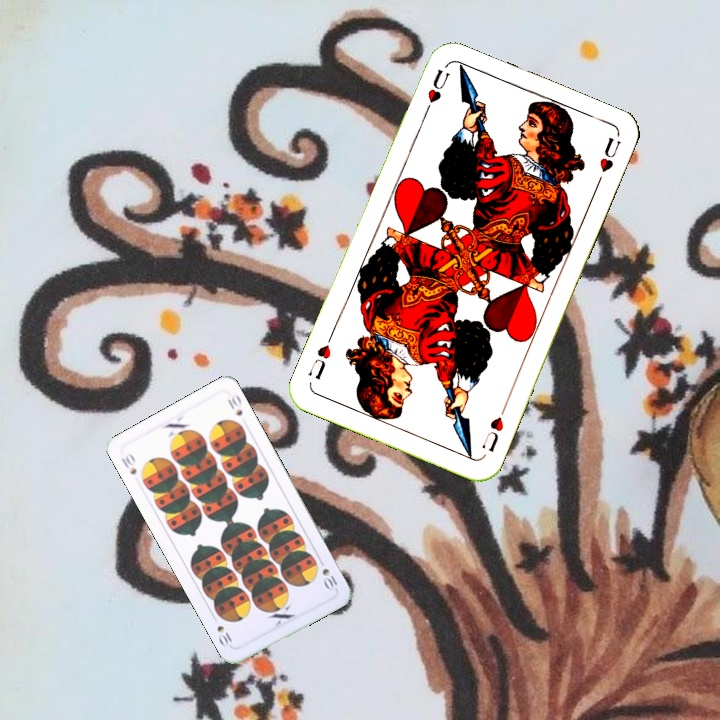HU: (419, 65, 453, 119), (478, 402, 509, 455)
S10: (318, 564, 340, 593), (117, 449, 139, 477)
